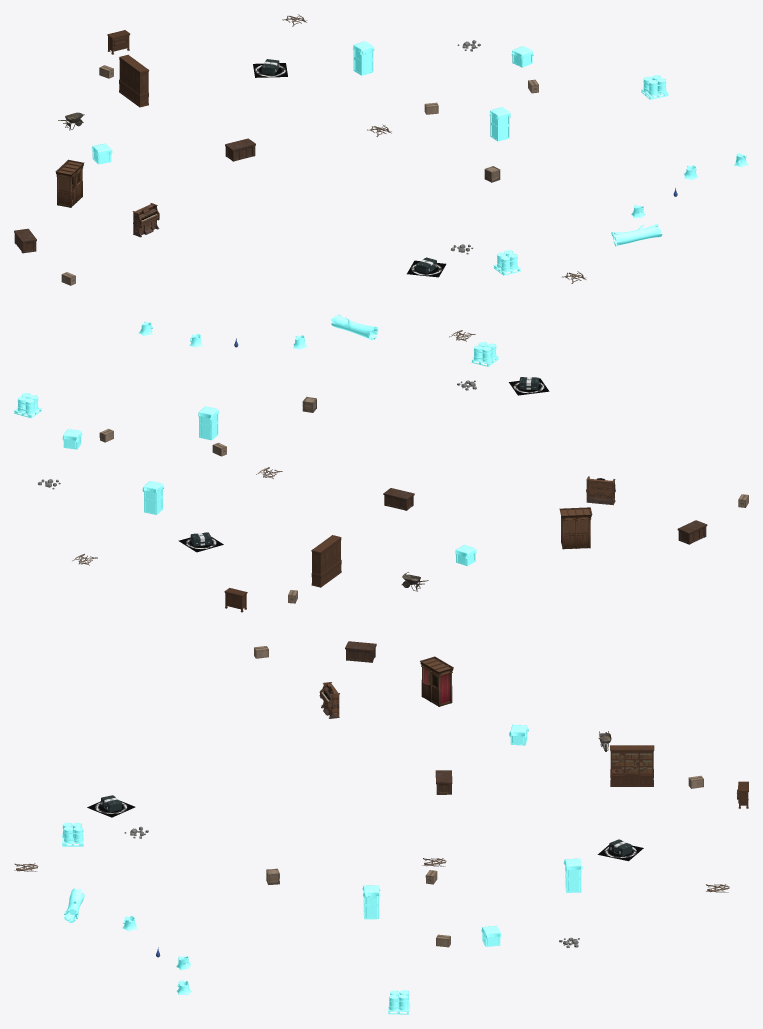
The model's file is CHURCH.fbx.
The picture shows the model from 3 angles, top to bottom: view 1: azimuth 30°, elevation 25°; view 2: azimuth 150°, elevation 25°; view 3: azimuth 270°, elevation 25°; orthographic projection. The views are drawn at different scales.
Visible parts, largest first — view 1: ItemBox_SteelBox_03 (×2), ItemBox_Uptown_BookCase_01, ItemBox_Confessional_01, ItemBox_Pallet_Loaded_01 (×2), ItemBox_AltarTable (×2), ItemBox_Organ_01, ItemBox_TreeStump_02; view 2: ItemBox_Confessional_01, ItemBox_Uptown_BookCase_01, ItemBox_SteelBox_03 (×2), ItemBox_AltarTable (×2), ItemBox_Pallet_Loaded_01 (×2), ItemBox_Organ_01, ItemBox_TreeStump_02; view 3: ItemBox_Uptown_BookCase_01, ItemBox_Confessional_01.
Part boxes in pixels (x1,y1,x2,y2): ItemBox_SteelBox_03 (×2): (353, 41, 510, 141); ItemBox_Uptown_BookCase_01: (119, 54, 149, 107); ItemBox_Confessional_01: (55, 159, 84, 207); ItemBox_Pallet_Loaded_01 (×2): (493, 75, 668, 275); ItemBox_AltarTable (×2): (14, 138, 255, 253); ItemBox_Organ_01: (132, 203, 159, 237); ItemBox_TreeStump_02: (611, 224, 662, 246); ItemBox_Confessional_01: (559, 507, 592, 549); ItemBox_Uptown_BookCase_01: (311, 535, 341, 587); ItemBox_SteelBox_03 (×2): (142, 406, 219, 514); ItemBox_AltarTable (×2): (383, 488, 707, 544); ItemBox_Pallet_Loaded_01 (×2): (14, 342, 498, 417); ItemBox_Organ_01: (586, 476, 615, 505); ItemBox_TreeStump_02: (331, 314, 378, 339); ItemBox_Uptown_BookCase_01: (610, 745, 654, 786); ItemBox_Confessional_01: (420, 656, 453, 706).
Bounding box in the file's own units: 53.45 × 3.99 × 48.59.
